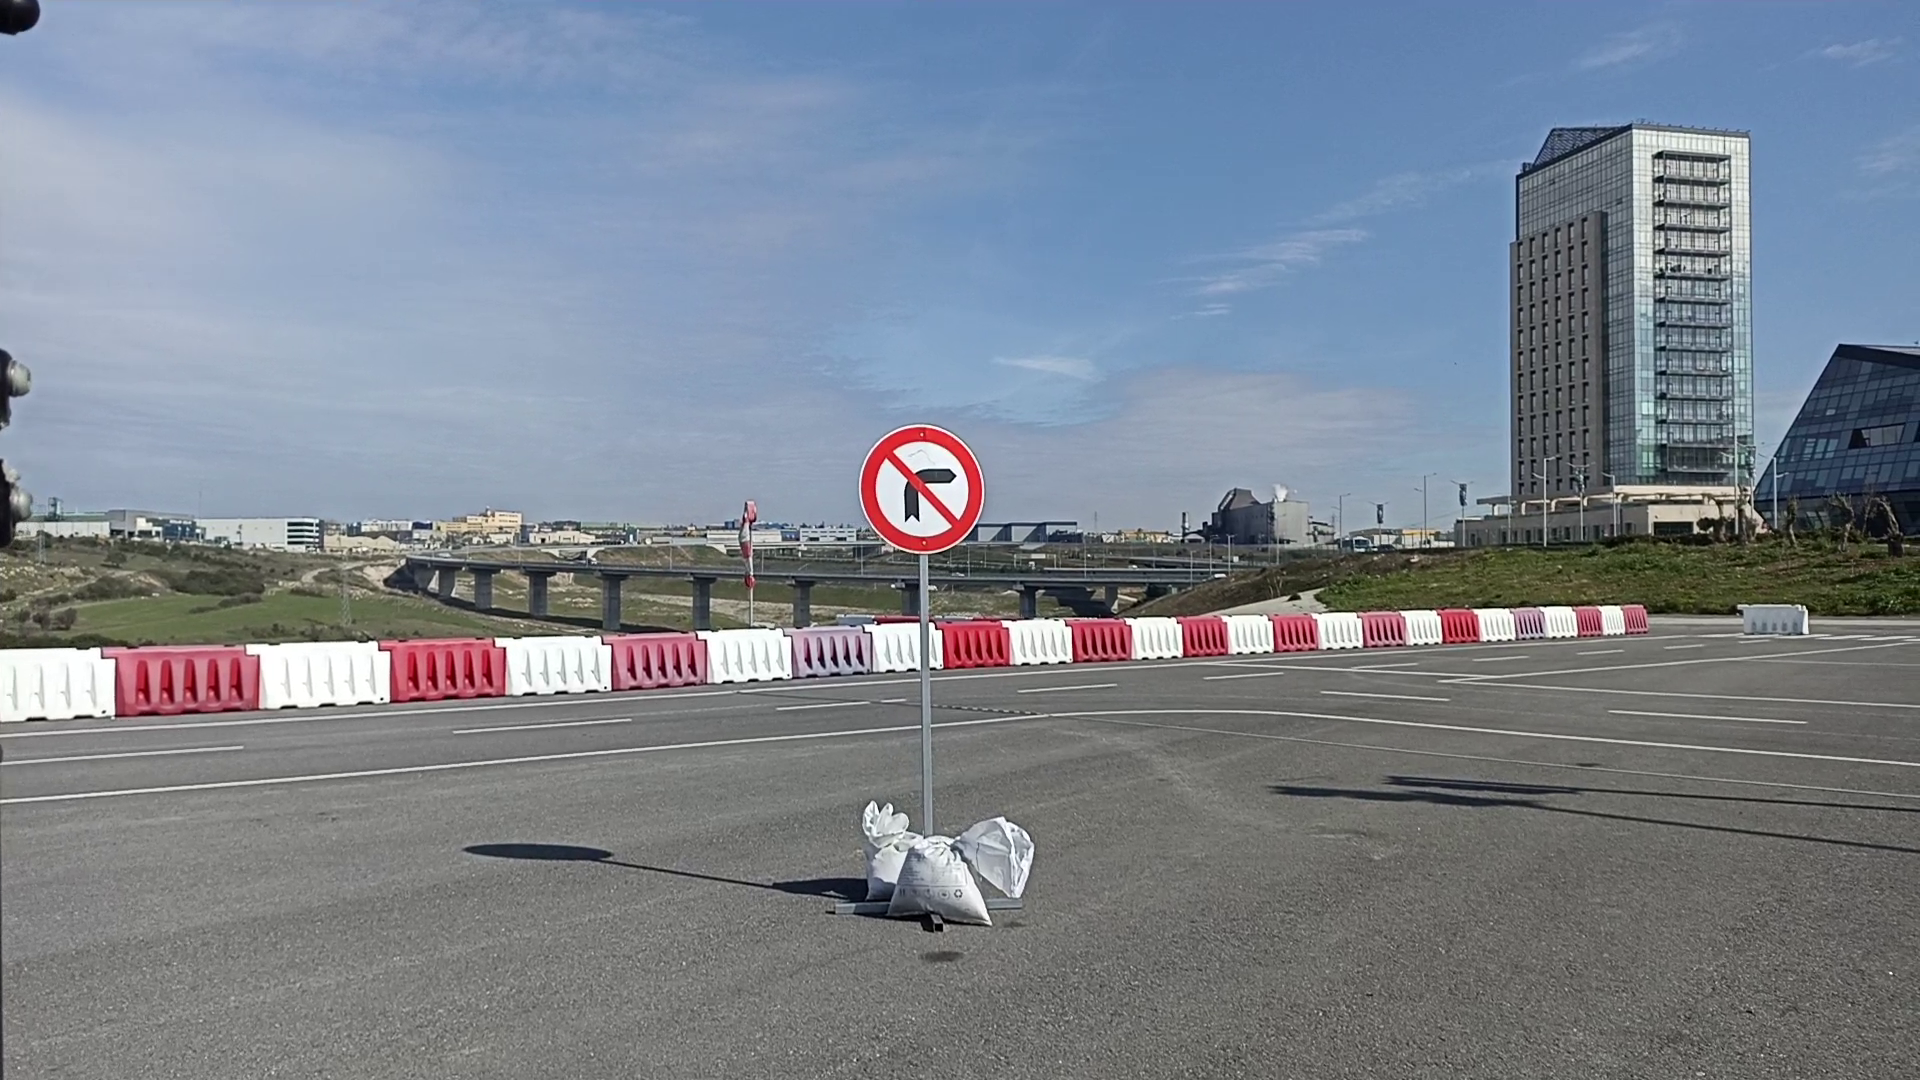noleftturn: (857, 421, 990, 556)
